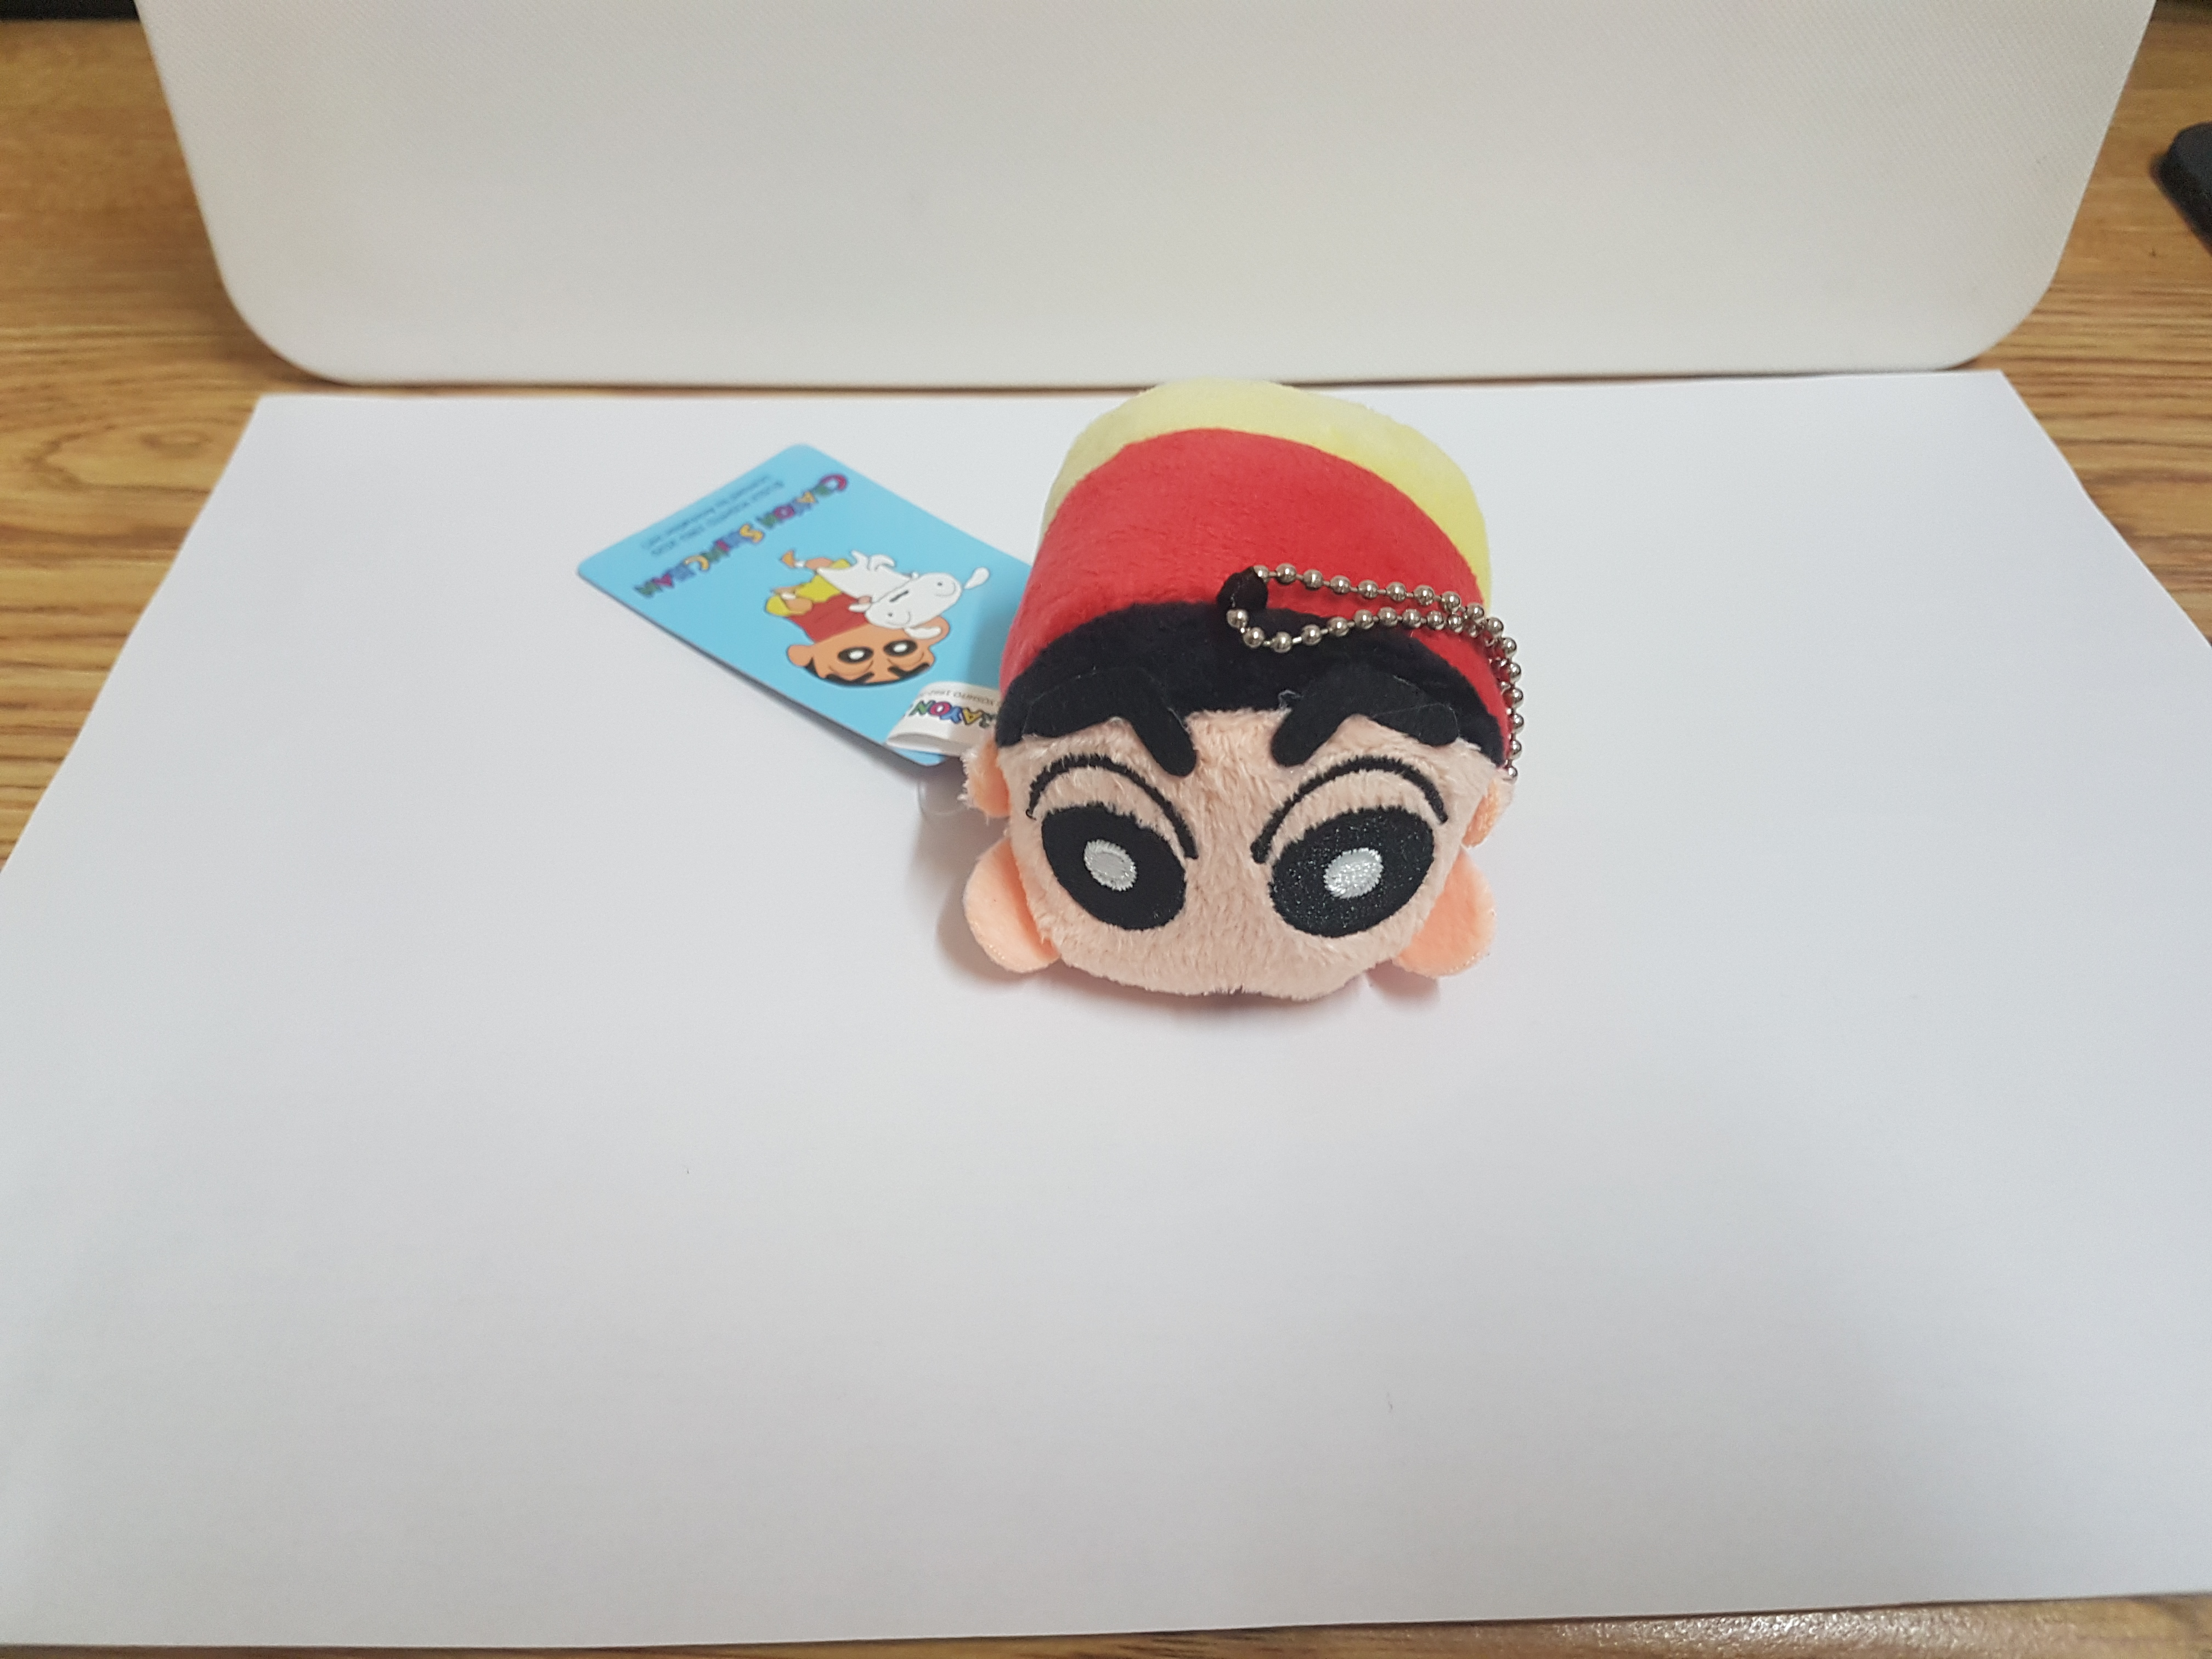stuffed toy: (961, 382, 1527, 1004)
